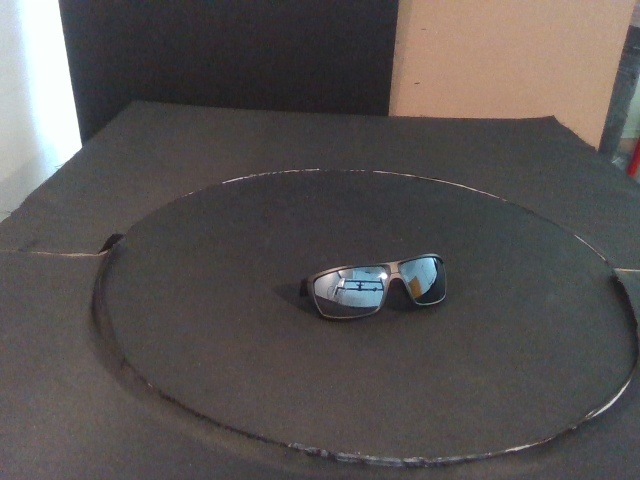glasses: (299, 252, 449, 321)
